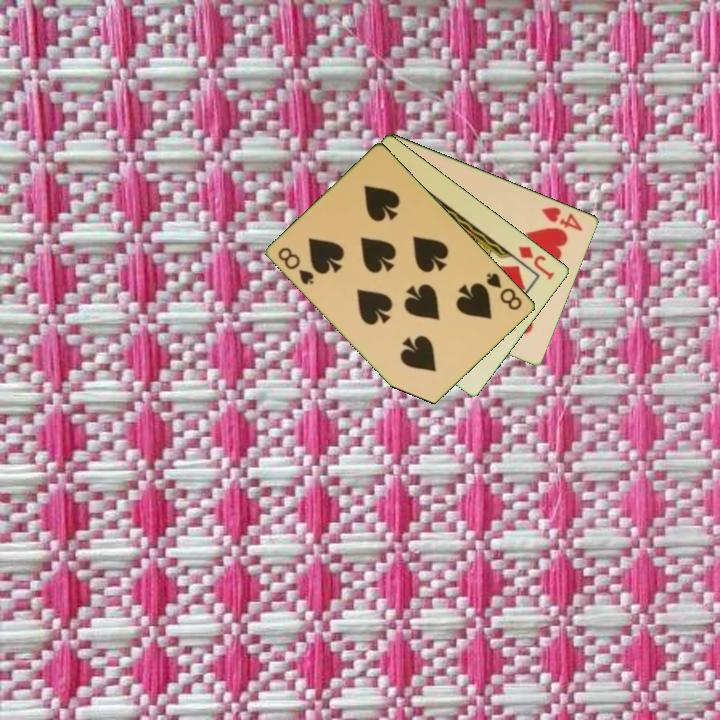4h: (538, 203, 586, 234)
8s: (275, 243, 318, 288), (483, 269, 525, 313)
Jd: (515, 242, 558, 283)
